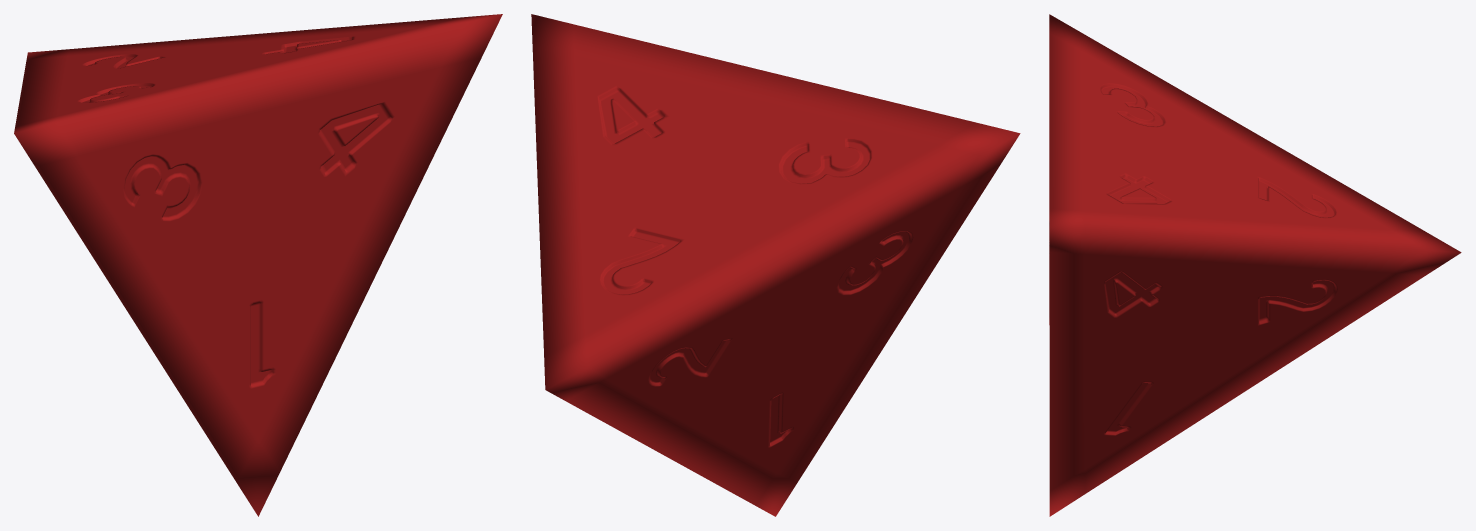
The model's file is die_4.glb.
The picture shows the model from 3 angles, left to right: view 1: azimuth 30°, elevation 25°; view 2: azimuth 150°, elevation 25°; view 3: azimuth 270°, elevation 25°; orthographic projection. The views are drawn at different scales.
Bounding box in the file's own units: 66856 × 57911 × 54630.
